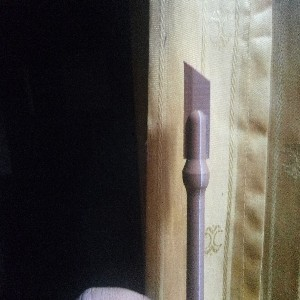cutter: (181, 60, 212, 300)
